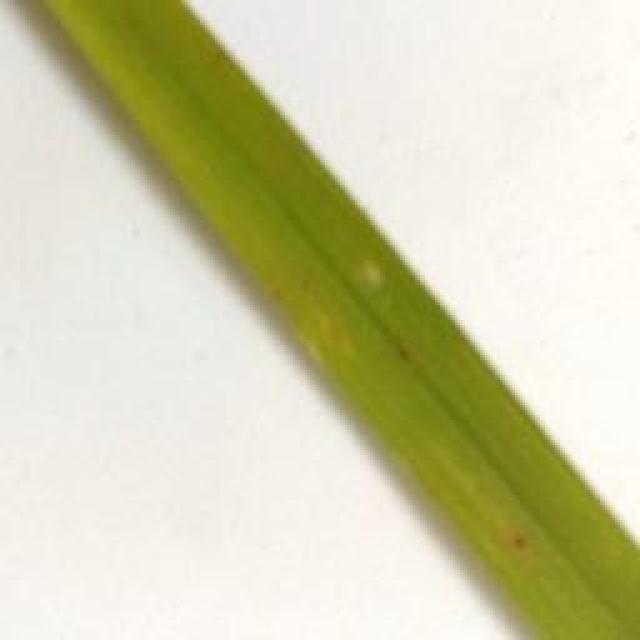Brown_Spot: (199, 29, 254, 92), (503, 525, 546, 564), (283, 264, 318, 302), (262, 276, 293, 318), (383, 333, 417, 367)
